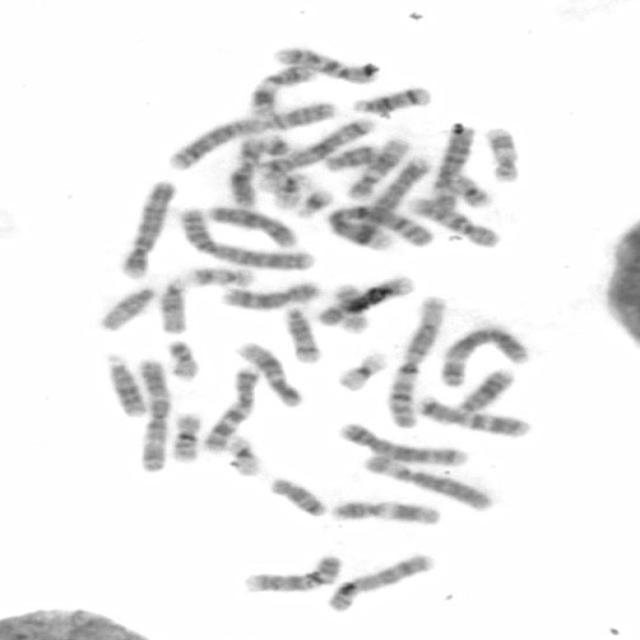A1: (385, 294, 449, 430), (327, 204, 438, 254)
A2: (164, 102, 338, 172), (178, 205, 318, 272)
A3: (436, 323, 532, 390), (130, 358, 173, 474)
B4: (350, 157, 432, 248), (120, 178, 177, 280)
B5: (255, 115, 375, 179), (336, 421, 471, 466)
C10: (408, 198, 500, 248), (274, 45, 379, 85)
C11: (248, 64, 316, 122), (332, 498, 444, 526)
C12: (230, 340, 304, 410), (346, 136, 410, 202)
C6: (363, 453, 495, 512), (432, 123, 478, 211)
C7: (200, 366, 262, 455), (416, 394, 533, 438)
C8: (325, 552, 439, 613), (219, 280, 325, 310)
C9: (315, 274, 419, 326), (242, 554, 343, 594)
D13: (455, 368, 519, 417), (102, 353, 148, 419)
D14: (283, 305, 325, 364), (350, 85, 434, 114)
D15: (97, 286, 157, 334), (154, 278, 189, 337)
E16: (328, 281, 371, 334), (167, 412, 204, 464)
E17: (480, 125, 526, 183), (185, 265, 255, 288)
E18: (268, 475, 328, 519), (324, 144, 380, 174)
F19: (335, 350, 389, 393), (222, 434, 265, 478)
F20: (160, 339, 202, 384), (449, 173, 493, 209)
G21: (297, 186, 334, 219), (260, 134, 301, 158)
G22: (254, 168, 312, 194), (273, 173, 310, 209)
X: (210, 203, 300, 249), (227, 136, 266, 209)
